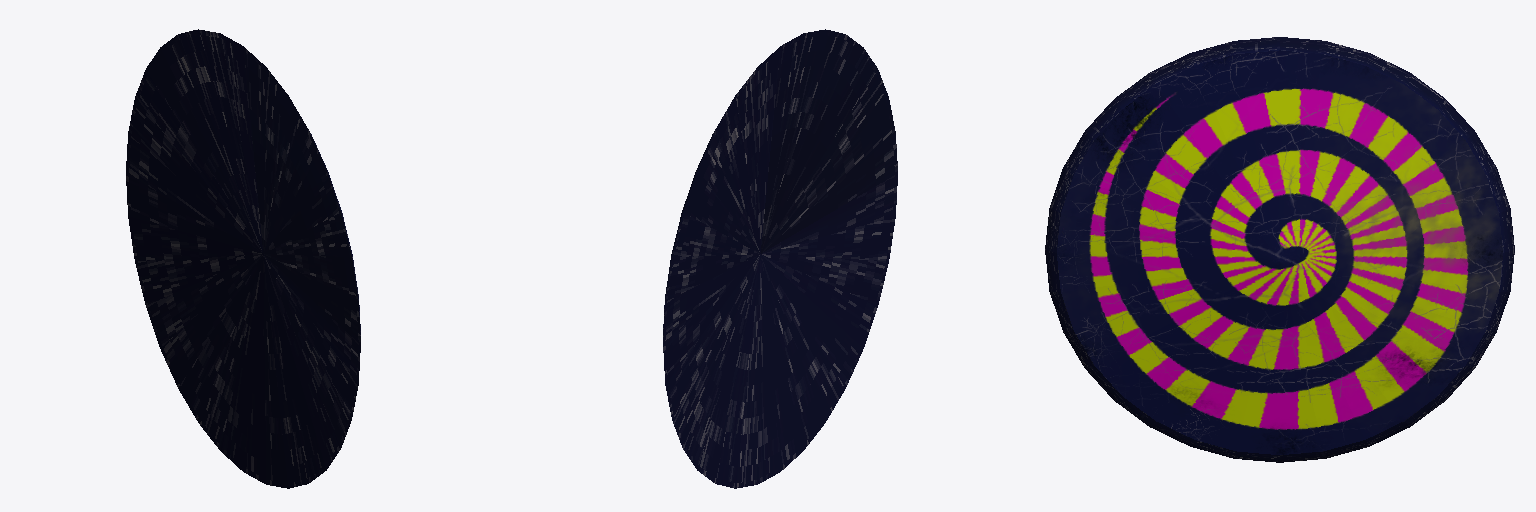
The picture shows the model from 3 angles: view 1: azimuth 30°, elevation 25°; view 2: azimuth 150°, elevation 25°; view 3: azimuth 270°, elevation 25°; orthographic projection.
Parts seen in each view (by area): view 1: Sphere.001; view 2: Sphere.001; view 3: Sphere.001.
Part boxes in pixels (x1,y1,x2,y2): Sphere.001: (126,29,360,488); Sphere.001: (663,29,897,488); Sphere.001: (1045,37,1514,462).
Size of the model in its own units: 0.1017 by 1.64 by 1.64.
Materials: 1 (1 with a texture image).